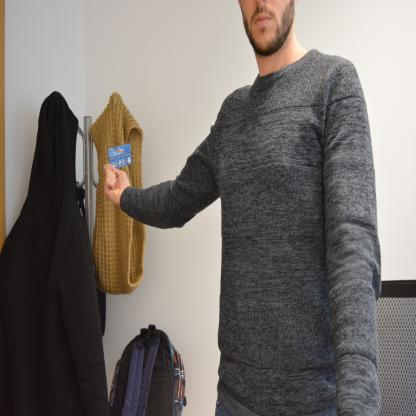tarjeta: (107, 142, 132, 168)
